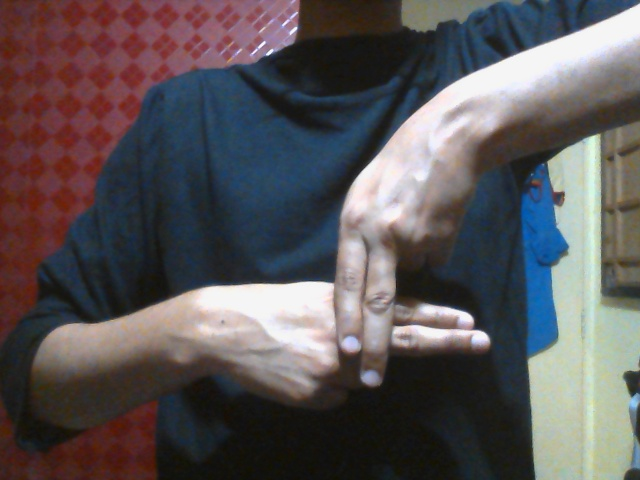F: (238, 169, 494, 413)
